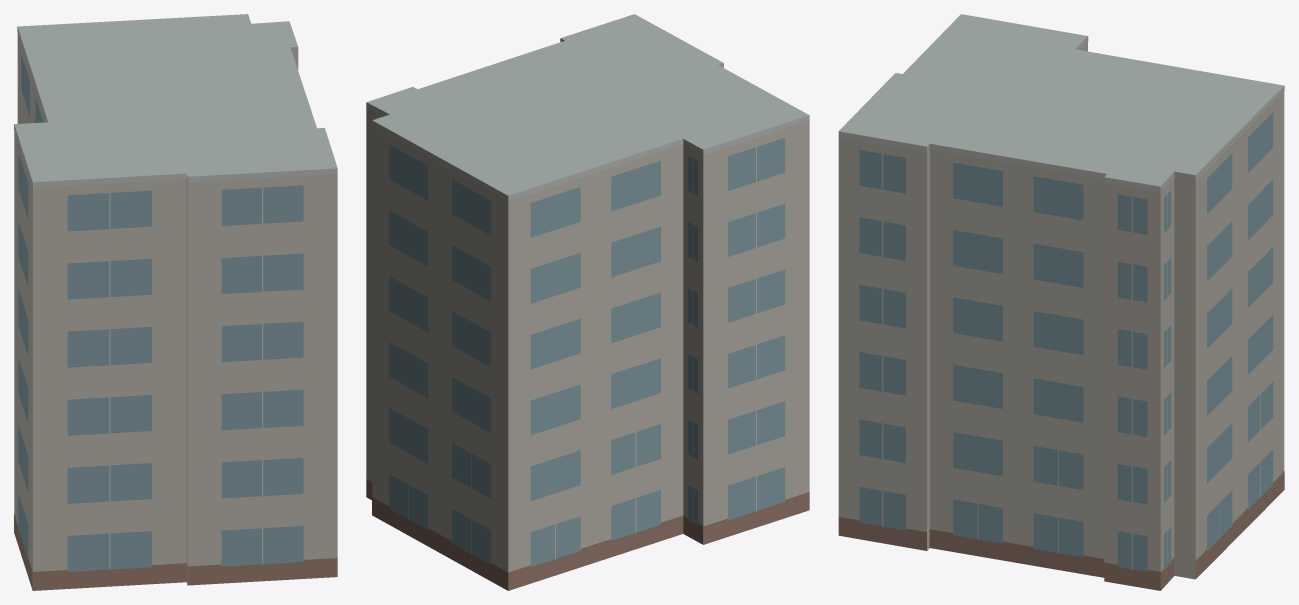
The model's file is survey-upis-32526377.glb.
3 views of the same model, side by side, from view 1: azimuth 30°, elevation 25°; view 2: azimuth 150°, elevation 25°; view 3: azimuth 270°, elevation 25° (orthographic). The views are drawn at different scales.
Visible parts, largest first — view 1: survey-upis-32526377.tmp; view 2: survey-upis-32526377.tmp; view 3: survey-upis-32526377.tmp.
Part boxes in pixels (box(x1,y1,x2,y2)): survey-upis-32526377.tmp: box(14, 14, 337, 590); survey-upis-32526377.tmp: box(366, 14, 809, 590); survey-upis-32526377.tmp: box(838, 14, 1284, 590).
Bounding box in the file's own units: 15.99 × 17.45 × 17.45.
